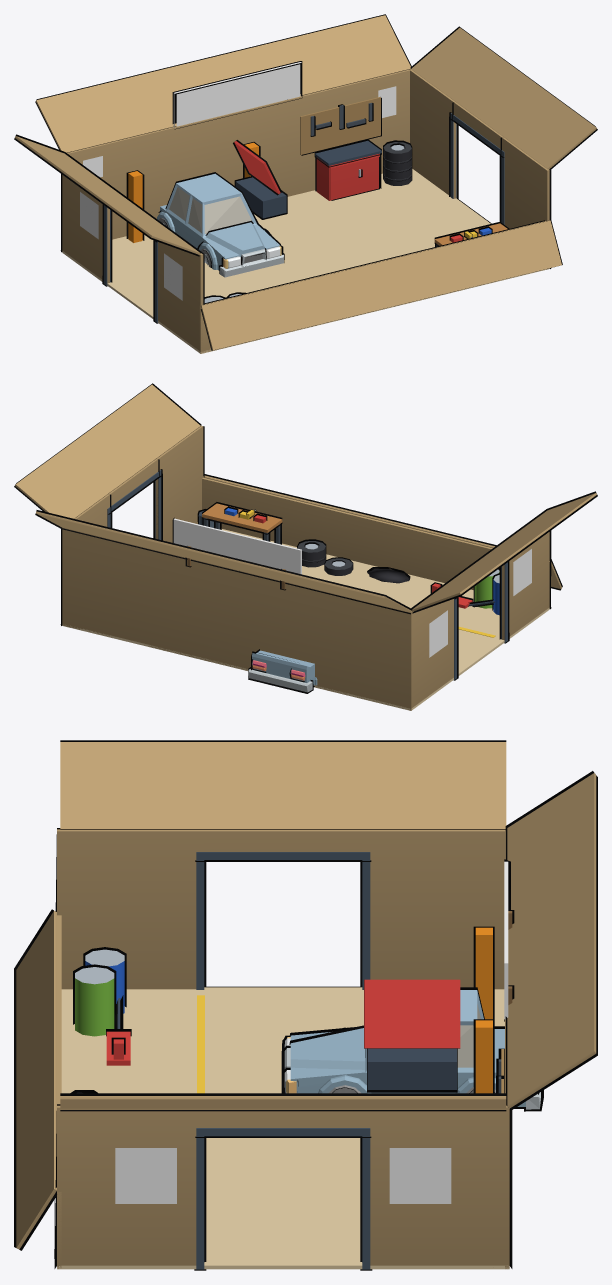
File: BR_Box_Werkstatt.glb
3 views of the same model, one above another, from view 1: azimuth 30°, elevation 25°; view 2: azimuth 150°, elevation 25°; view 3: azimuth 270°, elevation 25° (orthographic). The views are drawn at different scales.
Visible parts, largest first — view 1: BR_Box_Werkstatt_Mesh, BR_Box_Werkstatt_Outline; view 2: BR_Box_Werkstatt_Mesh, BR_Box_Werkstatt_Outline, Prop_Reifen; view 3: BR_Box_Werkstatt_Mesh, BR_Box_Werkstatt_Outline.
Boxes of the visible parts, bbox=[...] form: BR_Box_Werkstatt_Mesh: bbox=[15, 15, 596, 353]; BR_Box_Werkstatt_Outline: bbox=[14, 14, 597, 350]; BR_Box_Werkstatt_Mesh: bbox=[15, 384, 596, 710]; BR_Box_Werkstatt_Outline: bbox=[14, 383, 597, 693]; Prop_Reifen: bbox=[324, 558, 352, 575]; BR_Box_Werkstatt_Mesh: bbox=[16, 742, 596, 1269]; BR_Box_Werkstatt_Outline: bbox=[14, 740, 597, 1270].
Size of the model in its own units: 12.31 by 3.71 by 8.52.
